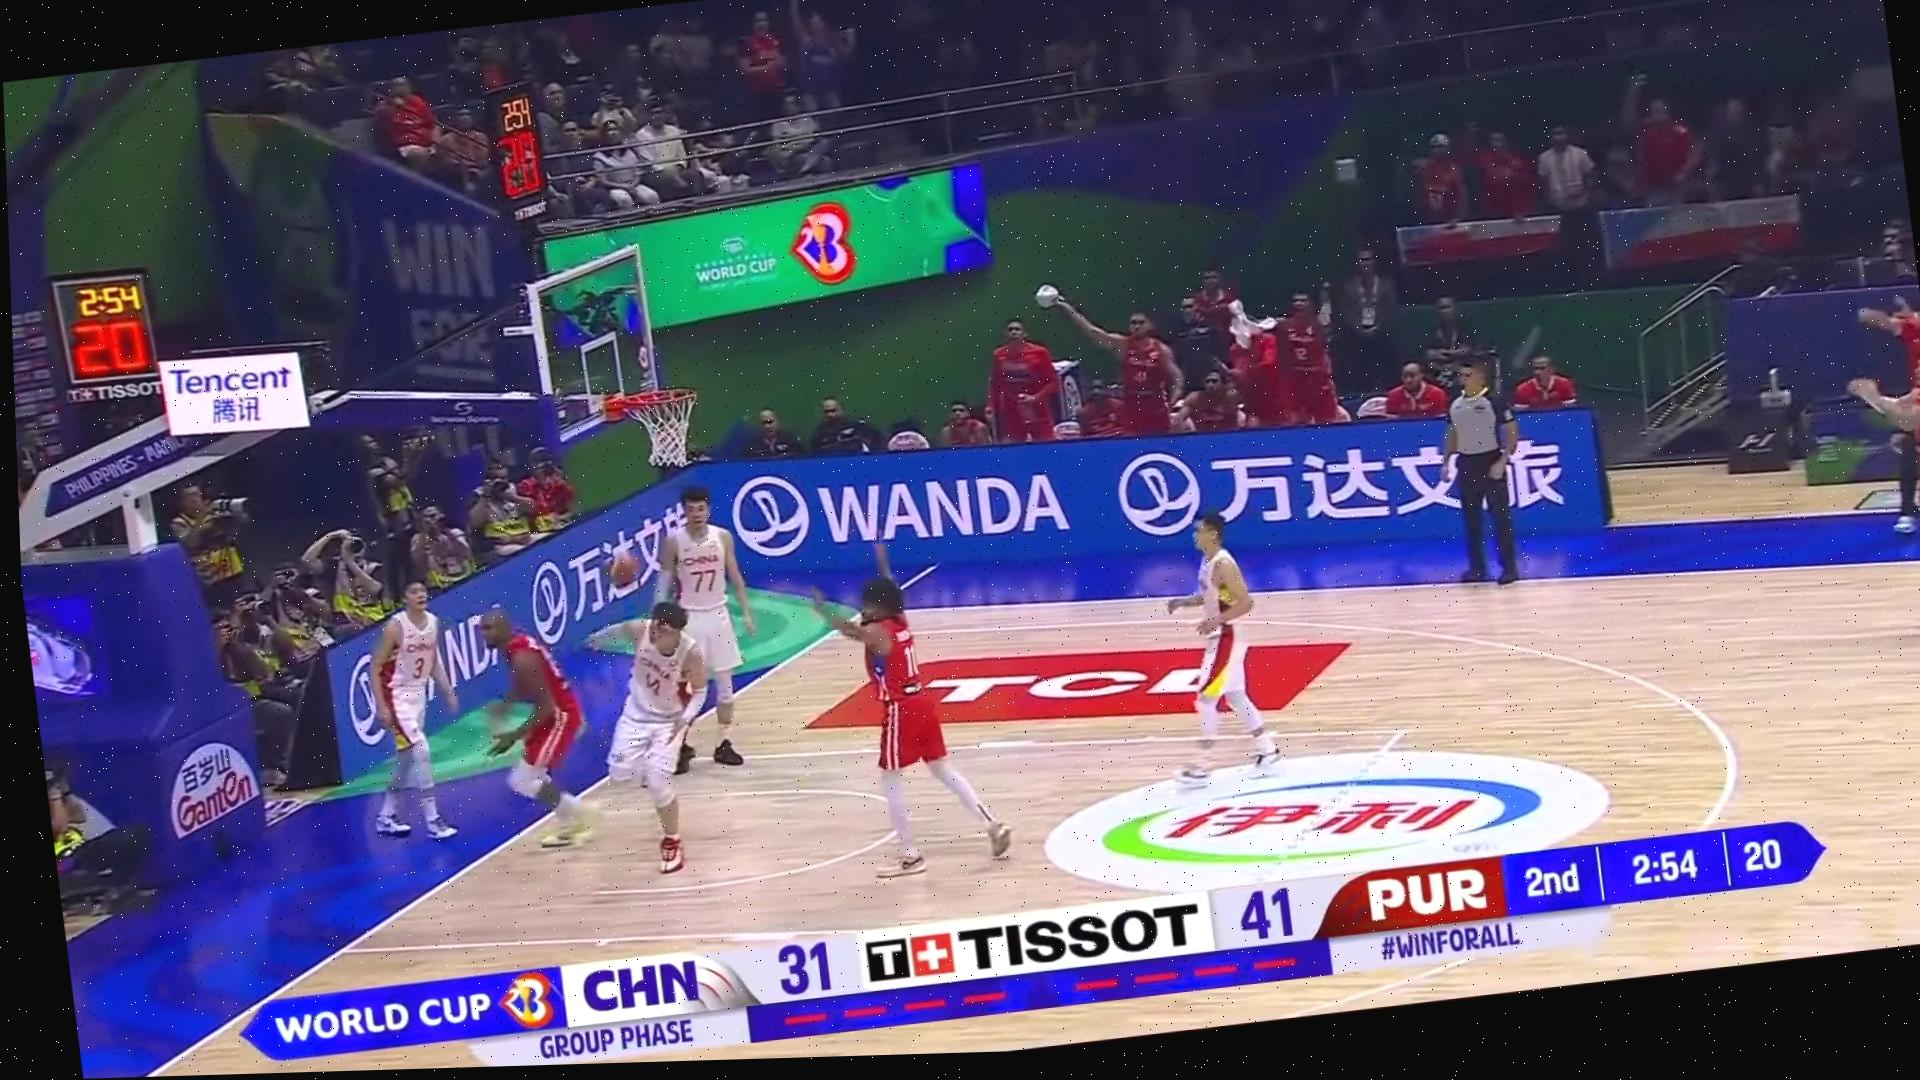no_foul: (451, 562, 750, 872)
